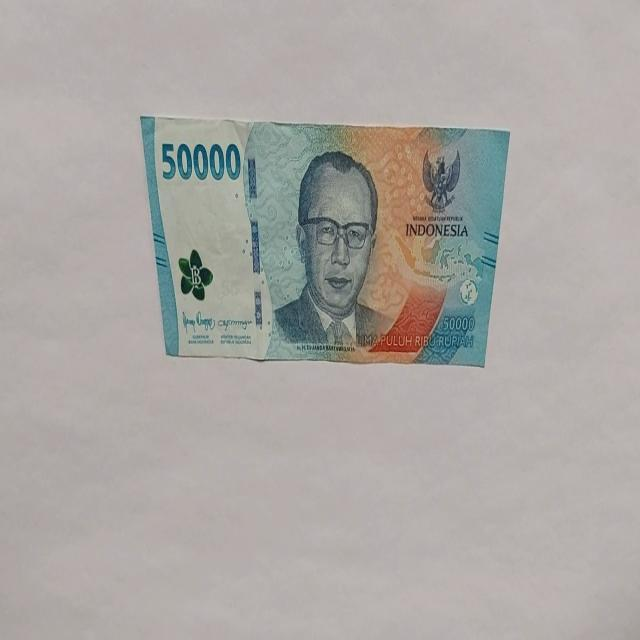lima puluh ribu rupiah: (139, 114, 511, 368), (269, 148, 391, 354), (160, 138, 242, 184)
